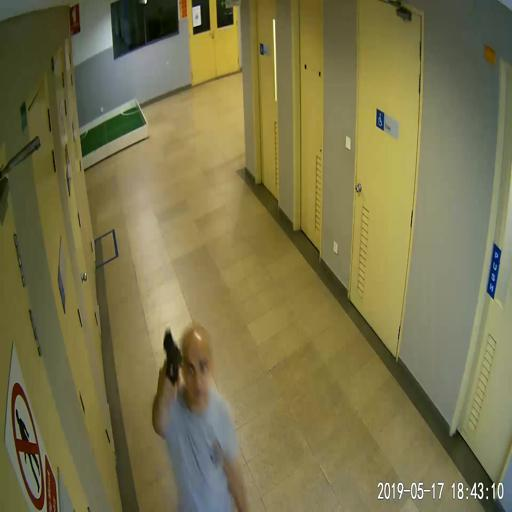pistol: (161, 328, 181, 387)
